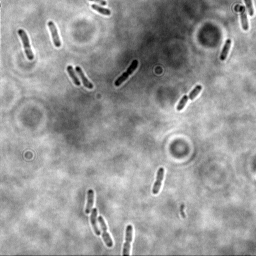Dividing: (113, 59, 139, 88), (96, 215, 115, 249), (17, 28, 35, 62), (151, 166, 166, 196), (121, 223, 135, 255)
Rod: (73, 65, 95, 90), (46, 20, 64, 49), (88, 207, 101, 237), (65, 65, 82, 87), (238, 5, 251, 32), (219, 38, 233, 63), (84, 188, 96, 215), (187, 84, 203, 102), (90, 4, 112, 17), (175, 95, 189, 112)
